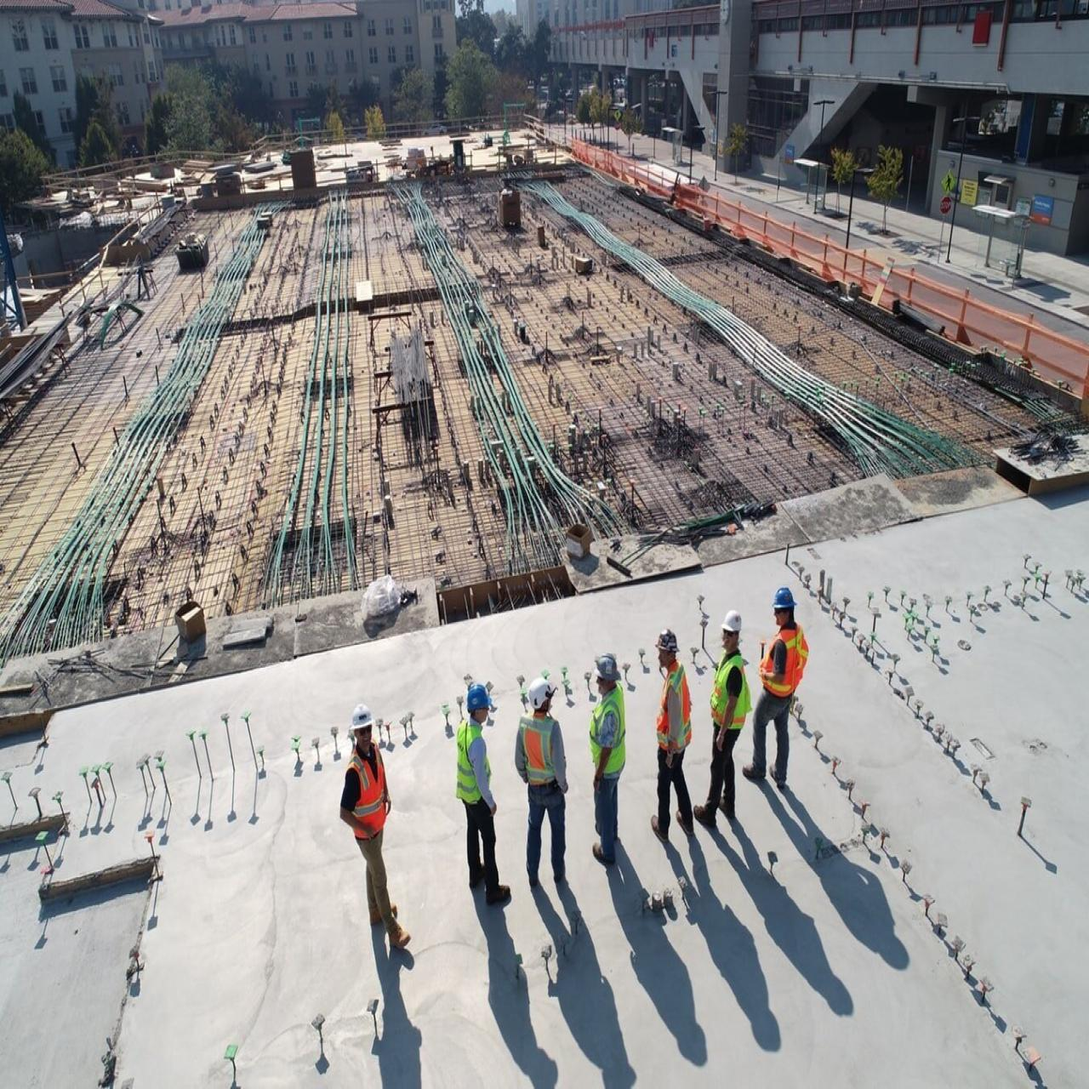Person: (325, 697, 415, 952), (743, 577, 826, 801), (635, 602, 705, 847), (444, 681, 510, 920), (696, 596, 757, 834), (516, 658, 570, 893), (579, 629, 627, 874)
Safety_Vest: (343, 740, 388, 839), (760, 623, 810, 706), (655, 662, 698, 751), (454, 719, 492, 810), (711, 653, 751, 735), (590, 690, 627, 777), (521, 710, 558, 791)
